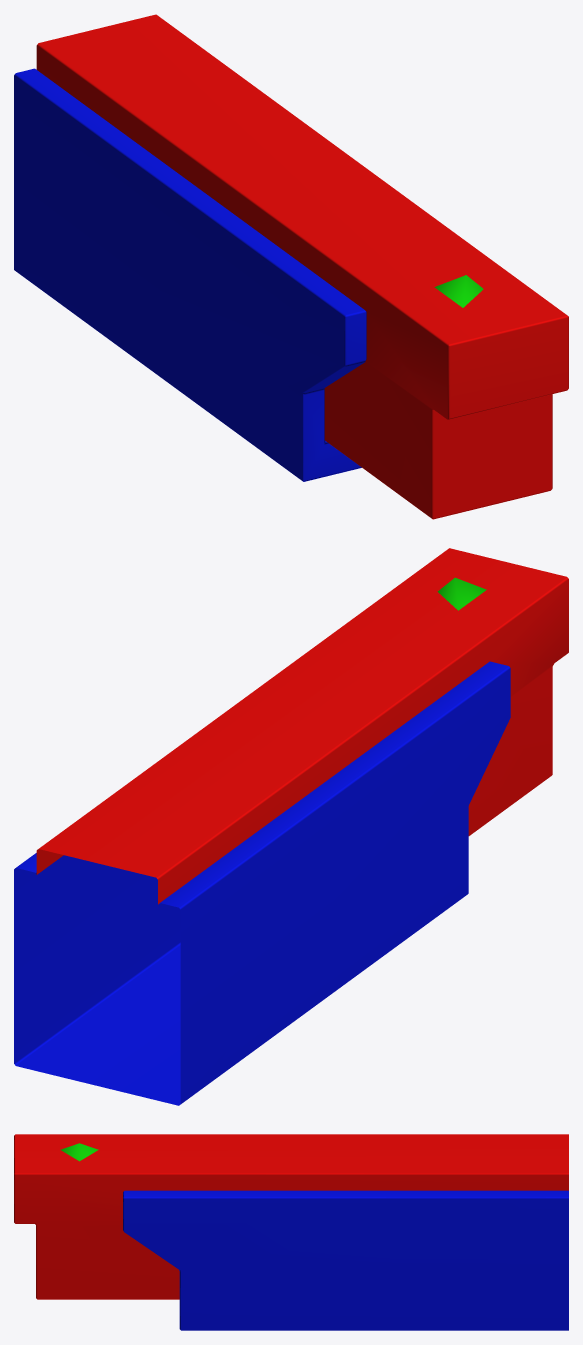
Rendered from Canon_Basic_A.fbx.
3 renders of one model, top to bottom at view 1: azimuth 30°, elevation 25°; view 2: azimuth 150°, elevation 25°; view 3: azimuth 270°, elevation 25°, orthographic. The views are drawn at different scales.
Visible parts, largest first — view 1: Canon_Basic_A; view 2: Canon_Basic_A; view 3: Canon_Basic_A.
Part boxes in pixels (bbox=[...]): Canon_Basic_A: bbox=[14, 14, 568, 519]; Canon_Basic_A: bbox=[14, 548, 568, 1105]; Canon_Basic_A: bbox=[14, 1134, 568, 1330].
Bounding box in the file's own units: 26.33 × 36.38 × 113.
